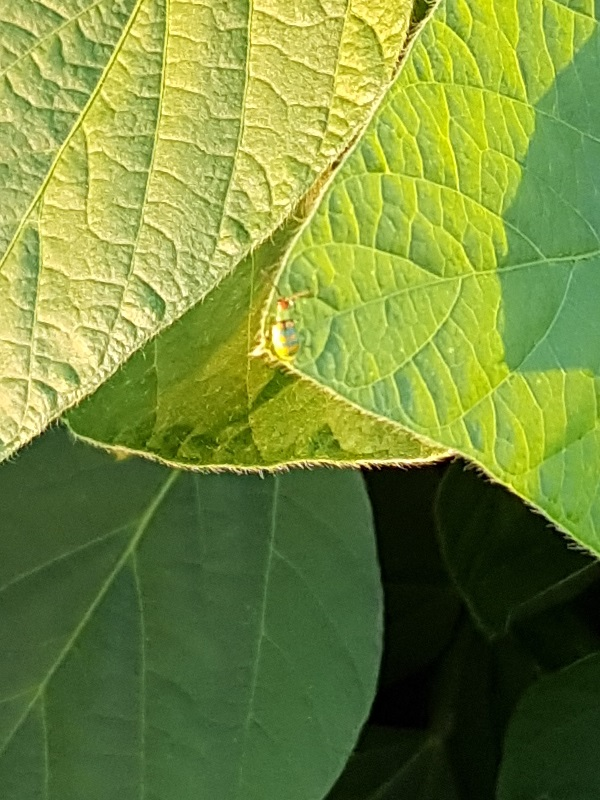Diabrotica_speciosa: (248, 270, 330, 374)
